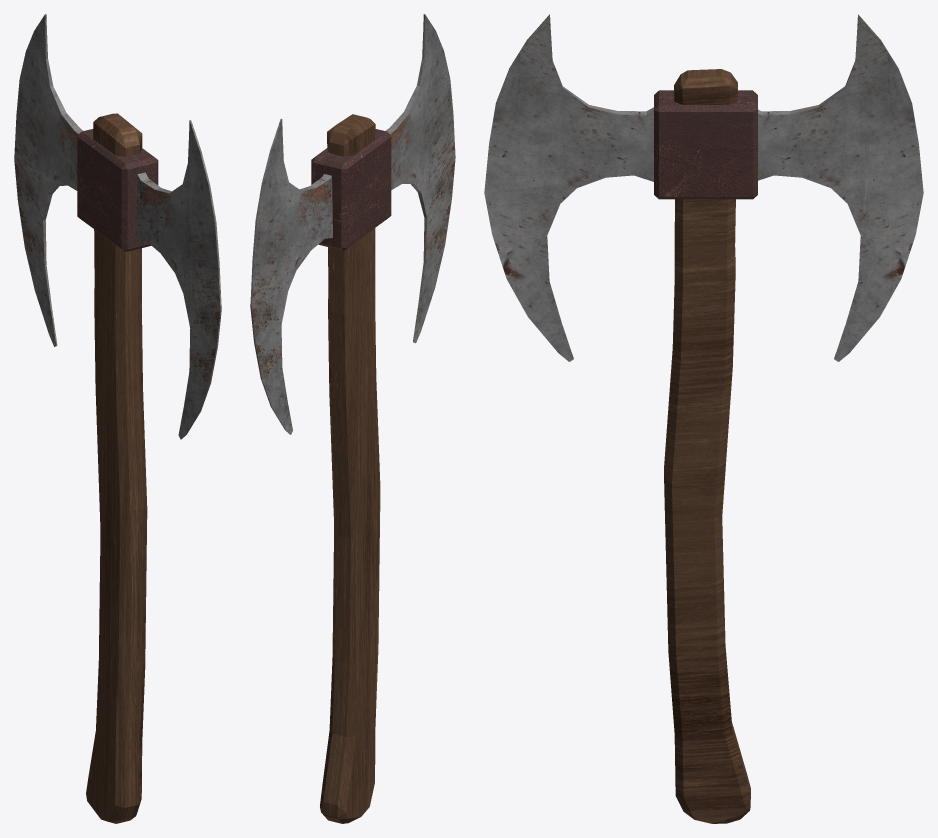
File: axe.obj
3 renders of one model, left to right at view 1: azimuth 30°, elevation 25°; view 2: azimuth 150°, elevation 25°; view 3: azimuth 270°, elevation 25°, orthographic. The views are drawn at different scales.
Parts seen in each view (by area): view 1: Cube, Cube.002, Cube.001; view 2: Cube, Cube.002, Cube.001; view 3: Cube.002, Cube, Cube.001.
Part boxes in pixels (left/top/right/bottom): Cube: left=86, top=113, right=147, bottom=823; Cube.002: left=14, top=14, right=221, bottom=439; Cube.001: left=77, top=129, right=158, bottom=251; Cube: left=320, top=114, right=380, bottom=823; Cube.002: left=250, top=14, right=455, bottom=434; Cube.001: left=311, top=129, right=391, bottom=250; Cube.002: left=484, top=14, right=923, bottom=361; Cube: left=664, top=69, right=750, bottom=823; Cube.001: left=654, top=90, right=757, bottom=199.
Bounding box in the file's own units: 0.1837 × 3.61 × 1.78.
3 materials, 3 textured.
